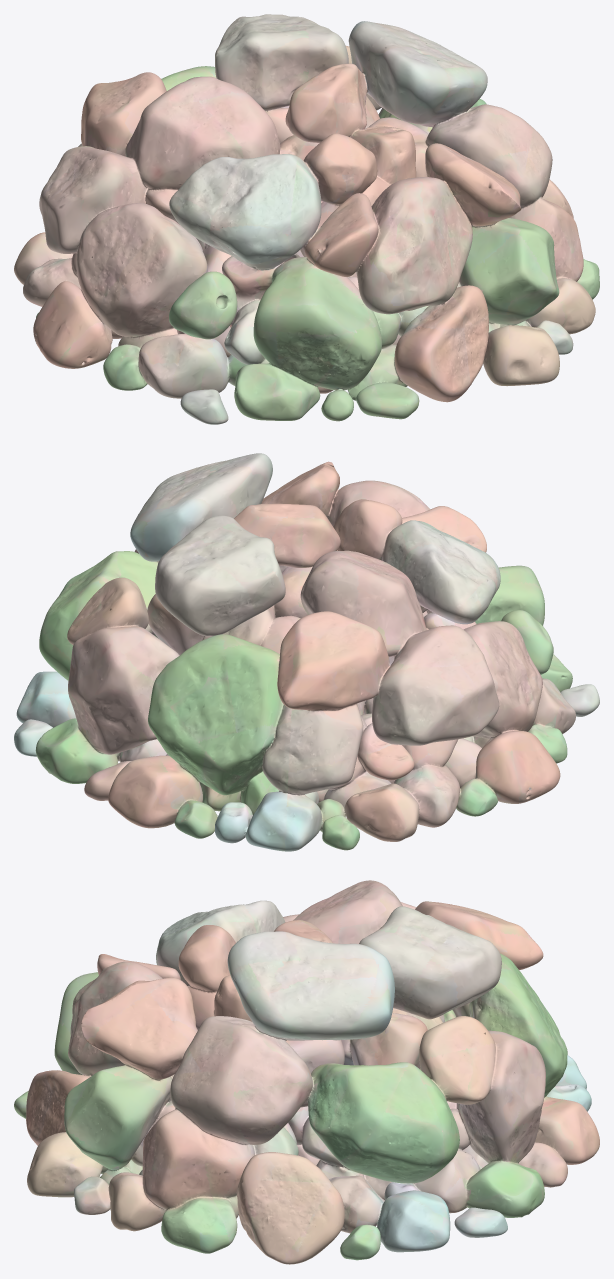
File: meshy_rock1_opt.glb
The picture shows the model from 3 angles, top to bottom: view 1: azimuth 30°, elevation 25°; view 2: azimuth 150°, elevation 25°; view 3: azimuth 270°, elevation 25°; orthographic projection. The views are drawn at different scales.
Size of the model in its own units: 1.9 by 0.8926 by 1.89.
Materials: 1 (1 with a texture image).
